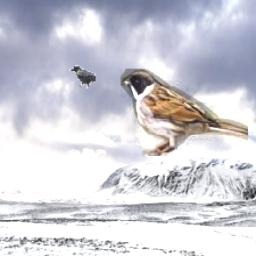Crow: (71, 65, 97, 88)
Sparrow: (121, 70, 248, 157)
